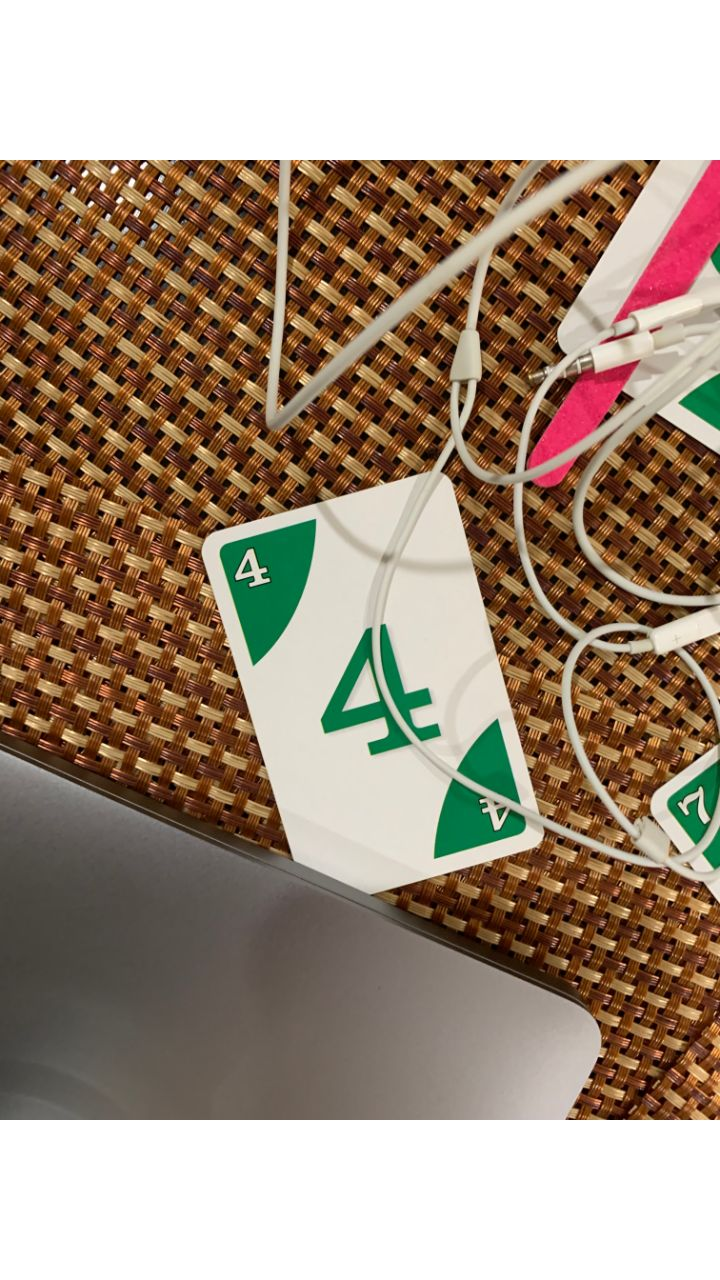four: (197, 473, 552, 914)
